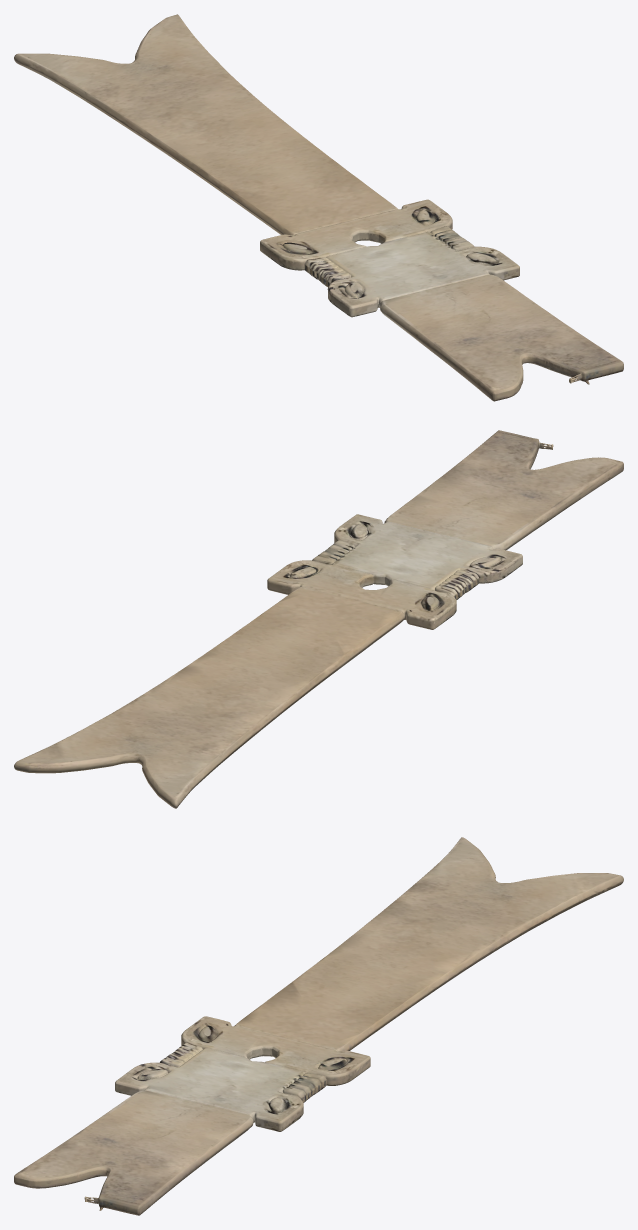
The model's file is sanxingdui-zhang-detail.glb.
3 renders of one model, top to bottom at view 1: azimuth 30°, elevation 25°; view 2: azimuth 150°, elevation 25°; view 3: azimuth 330°, elevation 25°, orthographic.
Visible parts, largest first — view 1: node_0; view 2: node_0; view 3: node_0.
Part boxes in pixels (x1,y1,x2,y2): node_0: (14,14,623,401); node_0: (14,430,623,808); node_0: (14,837,623,1215).
Bounding box in the file's own units: 0.2492 × 0.0197 × 1.17.
Materials: 1 (1 with a texture image).
